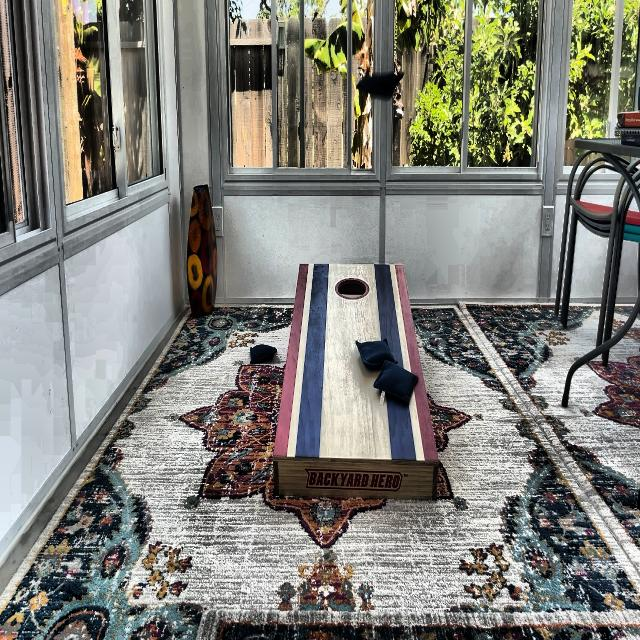blue-bean-bag: (373, 363, 419, 405), (356, 73, 404, 99), (356, 338, 397, 366), (250, 344, 276, 363)
board: (294, 264, 412, 460)
hole: (334, 275, 370, 301)
